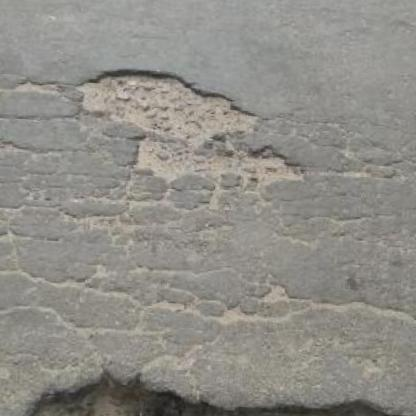pothole: (72, 63, 315, 189), (0, 351, 416, 416)
